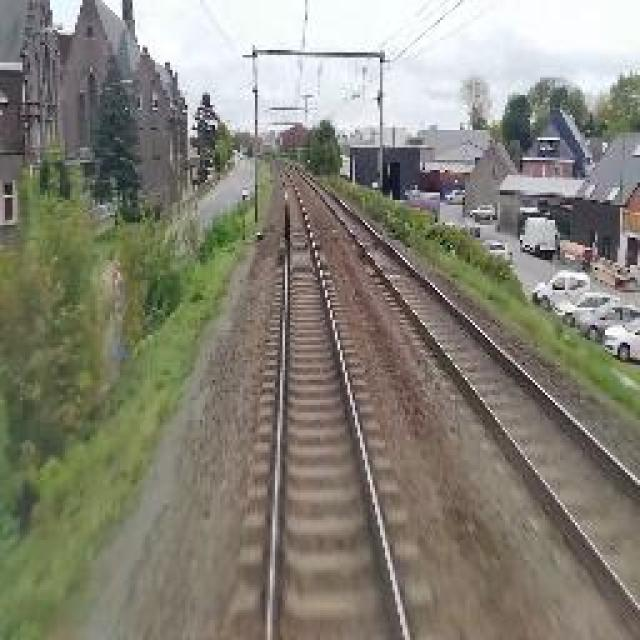rail: (224, 161, 452, 640)
